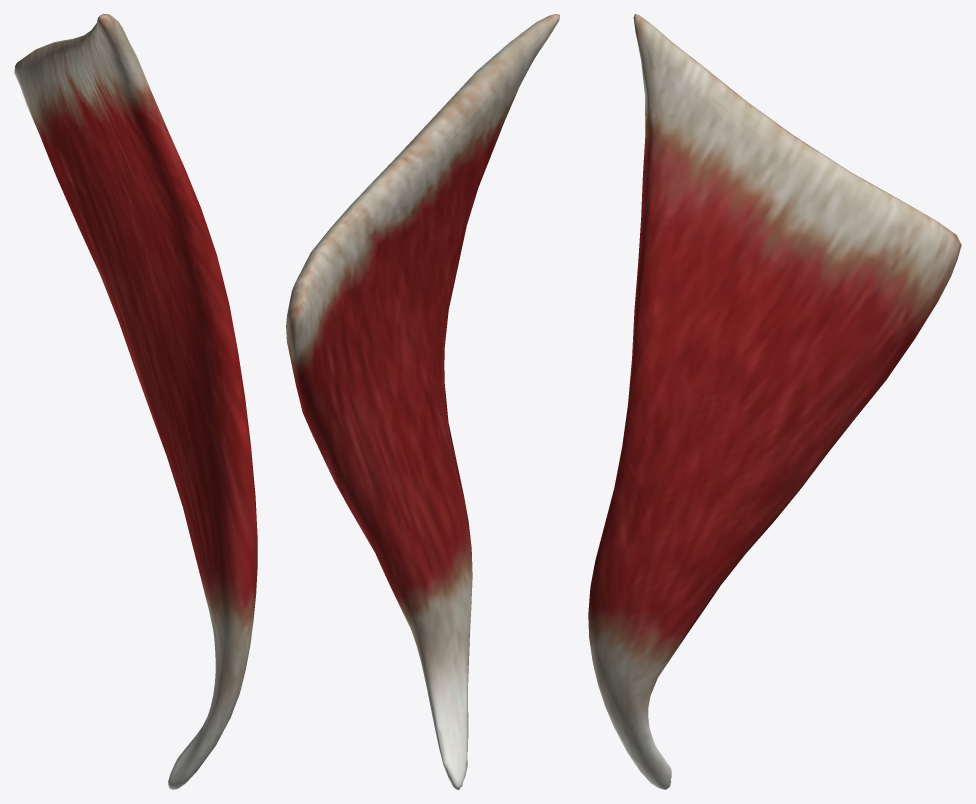
Rendered from L Tensor Fasciae Latae.fbx.
The picture shows the model from 3 angles, left to right: view 1: azimuth 30°, elevation 25°; view 2: azimuth 150°, elevation 25°; view 3: azimuth 270°, elevation 25°; orthographic projection. The views are drawn at different scales.
Visible parts, largest first — view 1: L Tensor Fasciae Latae, L Tensor Fasciae Latae high, L Tensor Fasciae Latae low; view 2: L Tensor Fasciae Latae high, L Tensor Fasciae Latae, L Tensor Fasciae Latae low; view 3: L Tensor Fasciae Latae, L Tensor Fasciae Latae low, L Tensor Fasciae Latae high.
Boxes of the visible parts, x1,y1,x2,y2 form: L Tensor Fasciae Latae: (14,14,257,789); L Tensor Fasciae Latae high: (17,15,257,788); L Tensor Fasciae Latae low: (21,14,257,788); L Tensor Fasciae Latae high: (294,15,555,783); L Tensor Fasciae Latae: (286,14,559,789); L Tensor Fasciae Latae low: (286,14,559,784); L Tensor Fasciae Latae: (588,14,961,789); L Tensor Fasciae Latae low: (588,14,956,788); L Tensor Fasciae Latae high: (591,15,950,787).
Bounding box in the file's own units: 2.57 × 12.76 × 5.86.
Materials: 1 (1 with a texture image).
